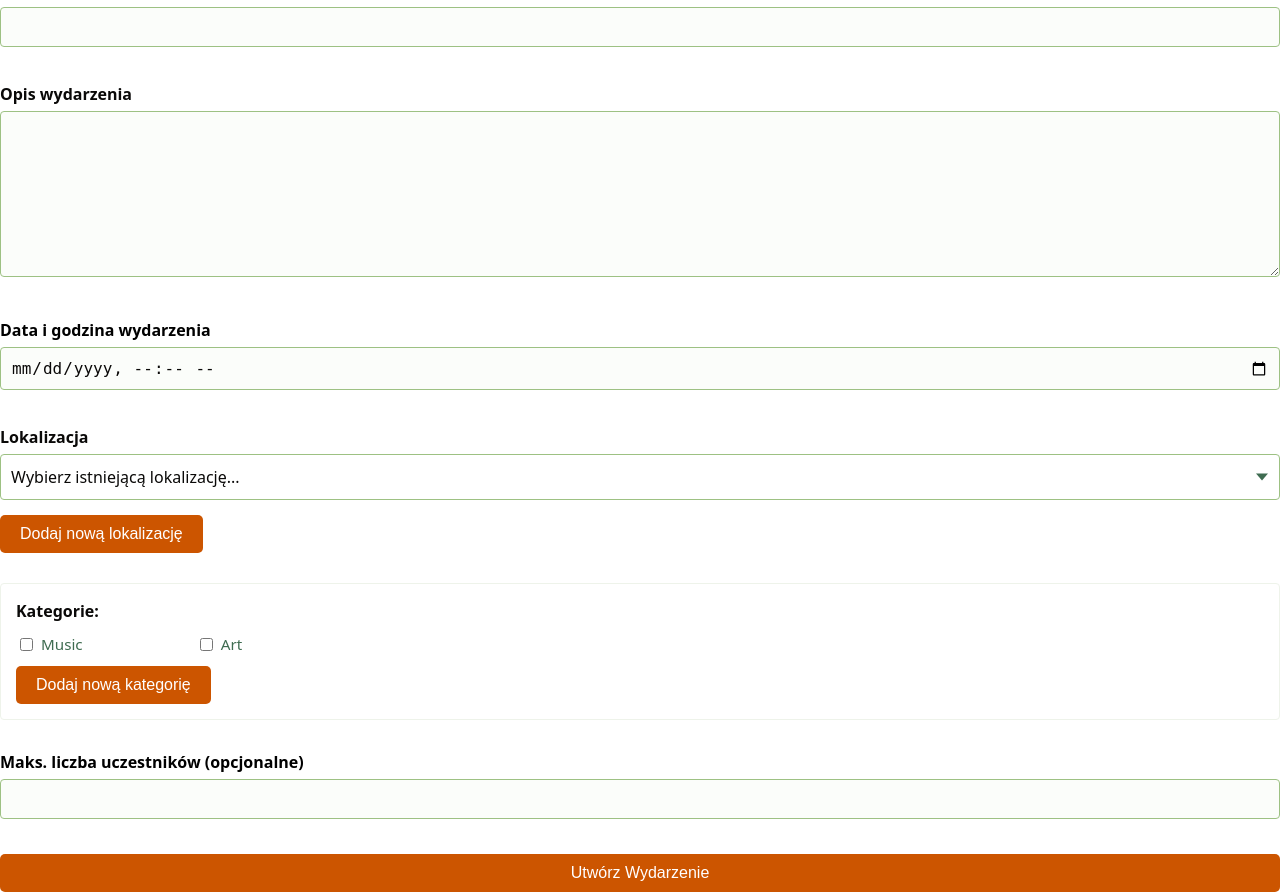
EventForm Component › Create Mode › validates client-side before submission
The width and height of the screenshot is (1280, 892).
(page scrolled)
Check: the field labelled "Tytuł wydarzenia" is shown, box [0,7,1279,47]
Click the button "Utwórz Wydarzenie" at (640, 873), box [0,854,1279,891]
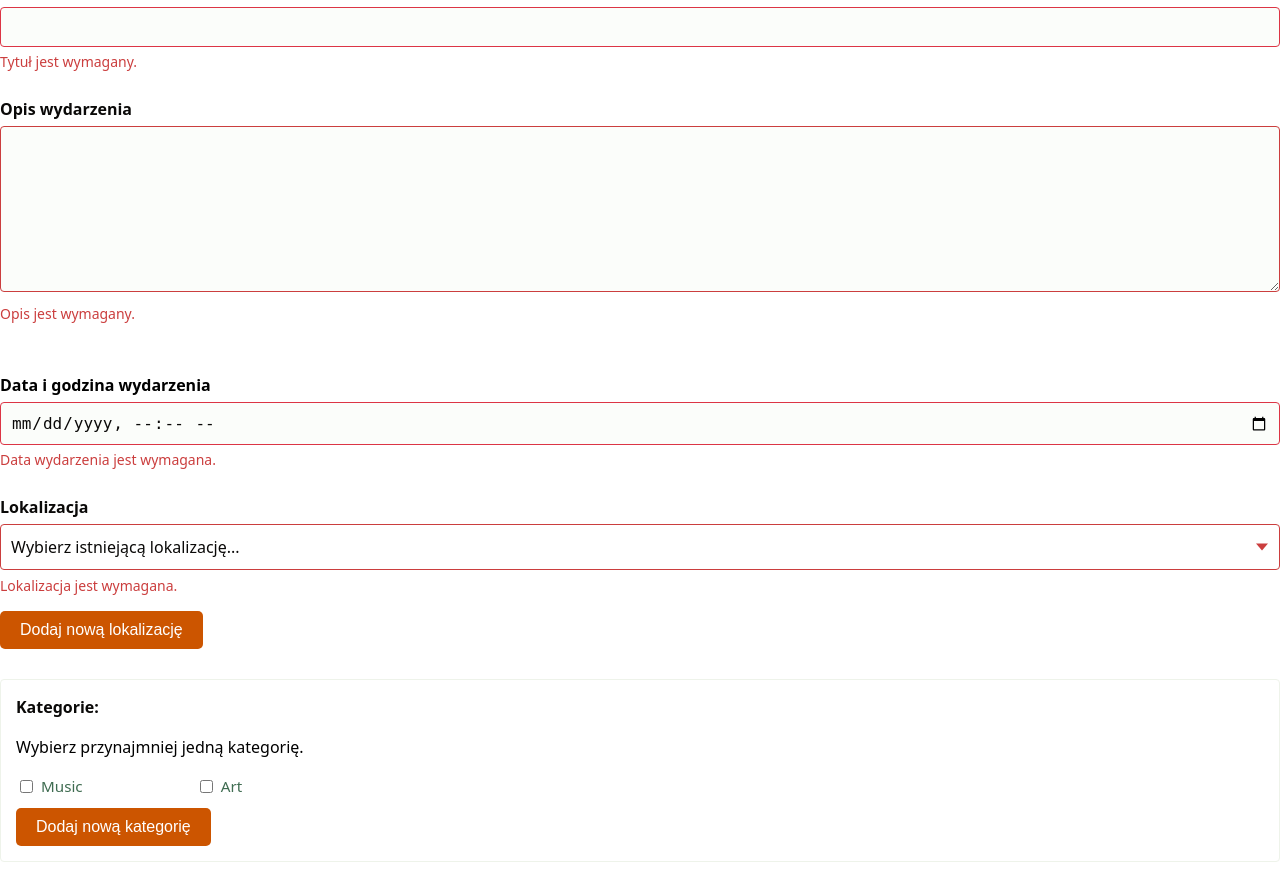
Check: the text "Tytuł jest wymagany." is shown, box [0,52,137,71]
Check: the text "Opis jest wymagany." is shown, box [0,304,135,323]
Check: the text "Data wydarzenia jest wymagana." is shown, box [0,450,216,469]
